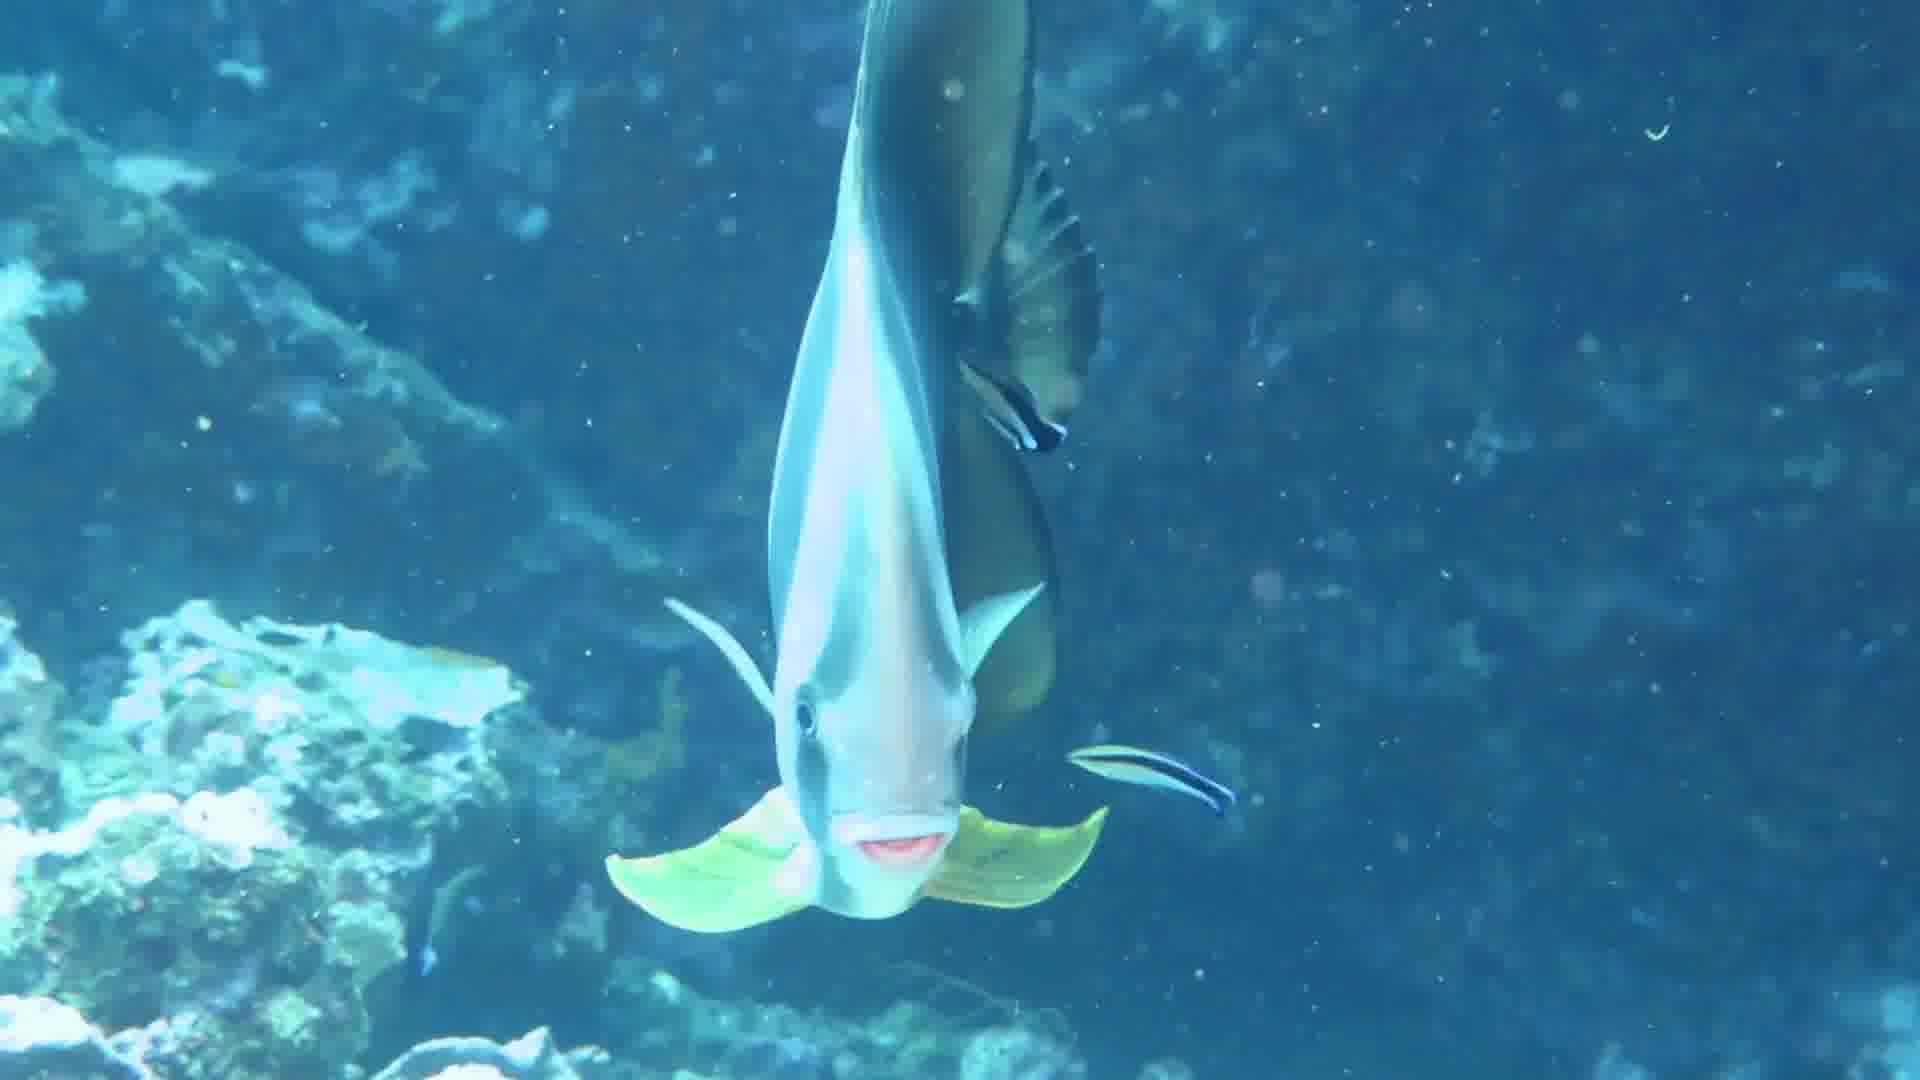Platax teira: (506, 1, 1331, 1046)
